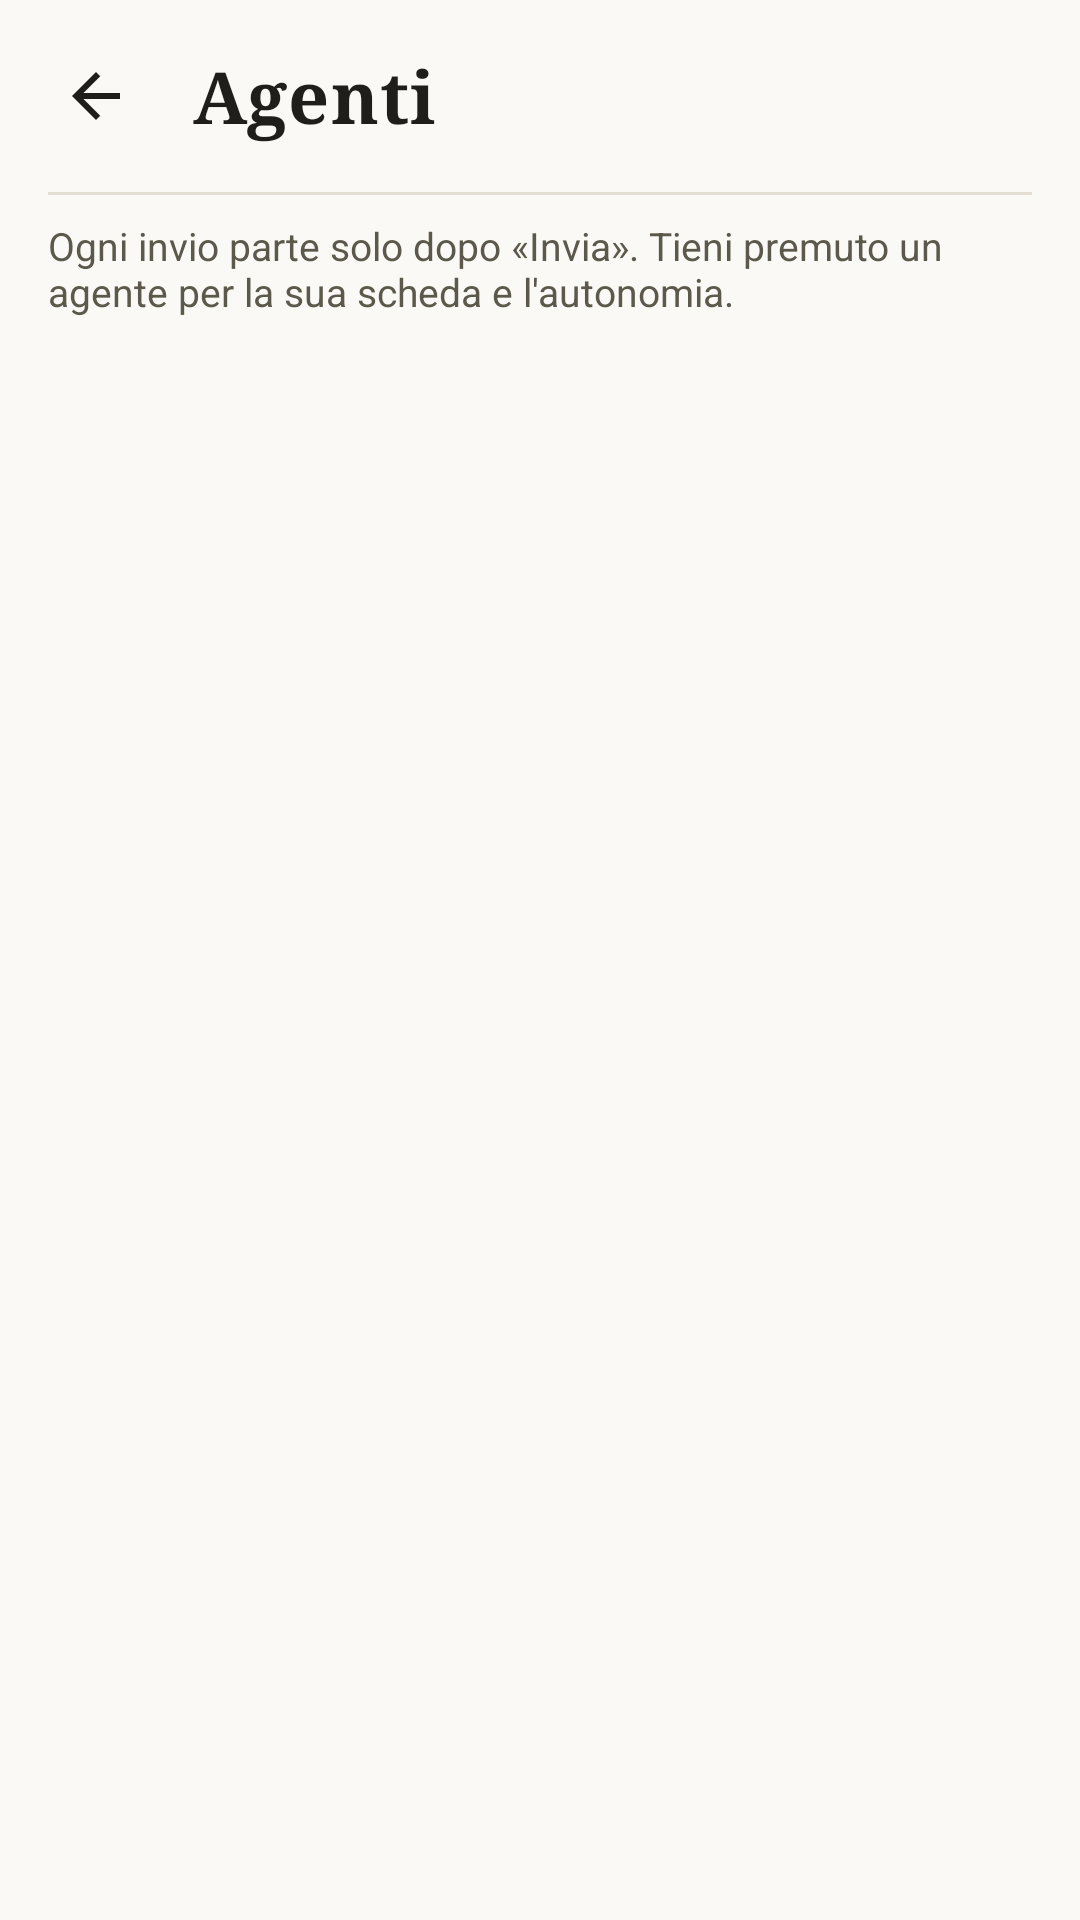

Screen size 1080px×1920px. Icon name, then its box in pixels as [x1, y1, x2, y2]:
Indietro: [72, 72, 120, 120]
